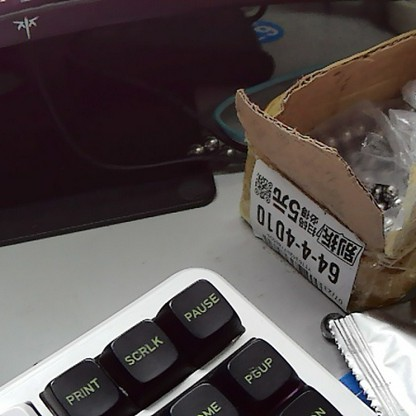ironball: (311, 301, 343, 337), (200, 130, 221, 155), (220, 140, 238, 163), (183, 138, 203, 157)
